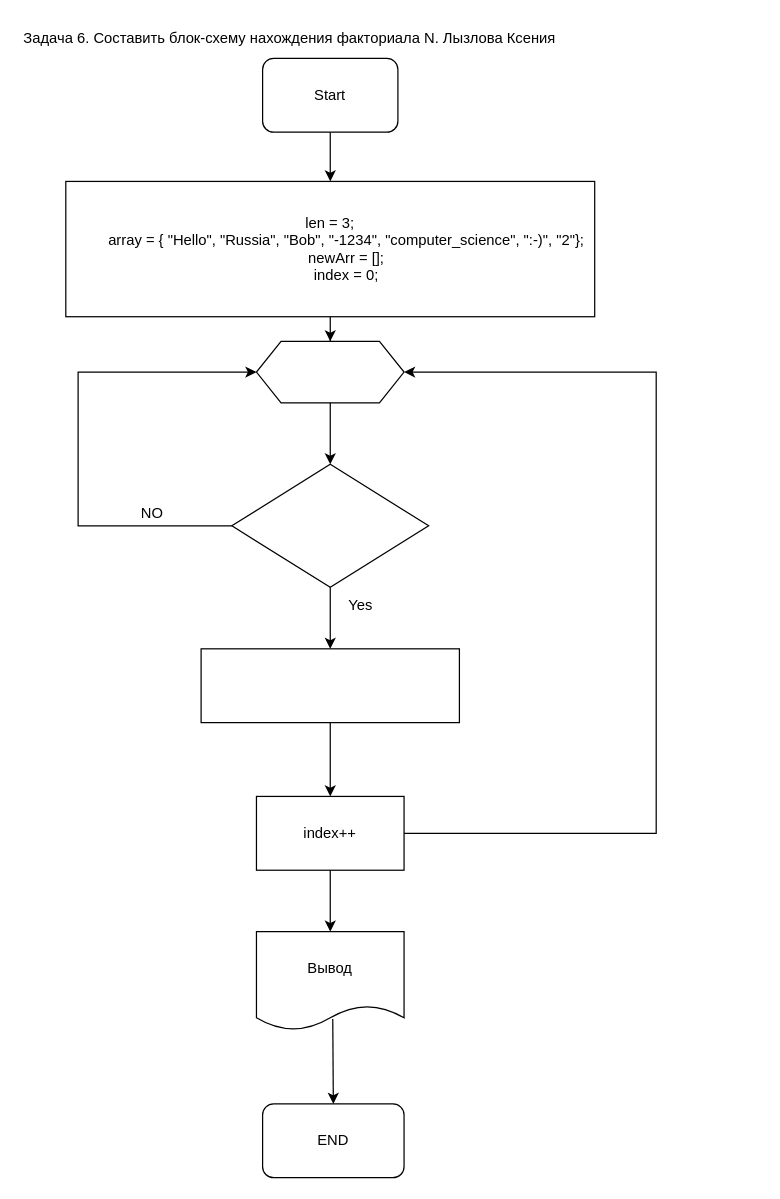
The diagram is 780 pixels wide and 1199 high, and some of its shapes have lost their labels. The shapes that lost their labels are listed below. From the top down, each one's box as (x1, y1, x2, y2) in pixels, then its label:
(255, 340, 404, 403): for i = 0; i < array.Length
(200, 648, 459, 723): newArr.SetValue(array[i], index)
